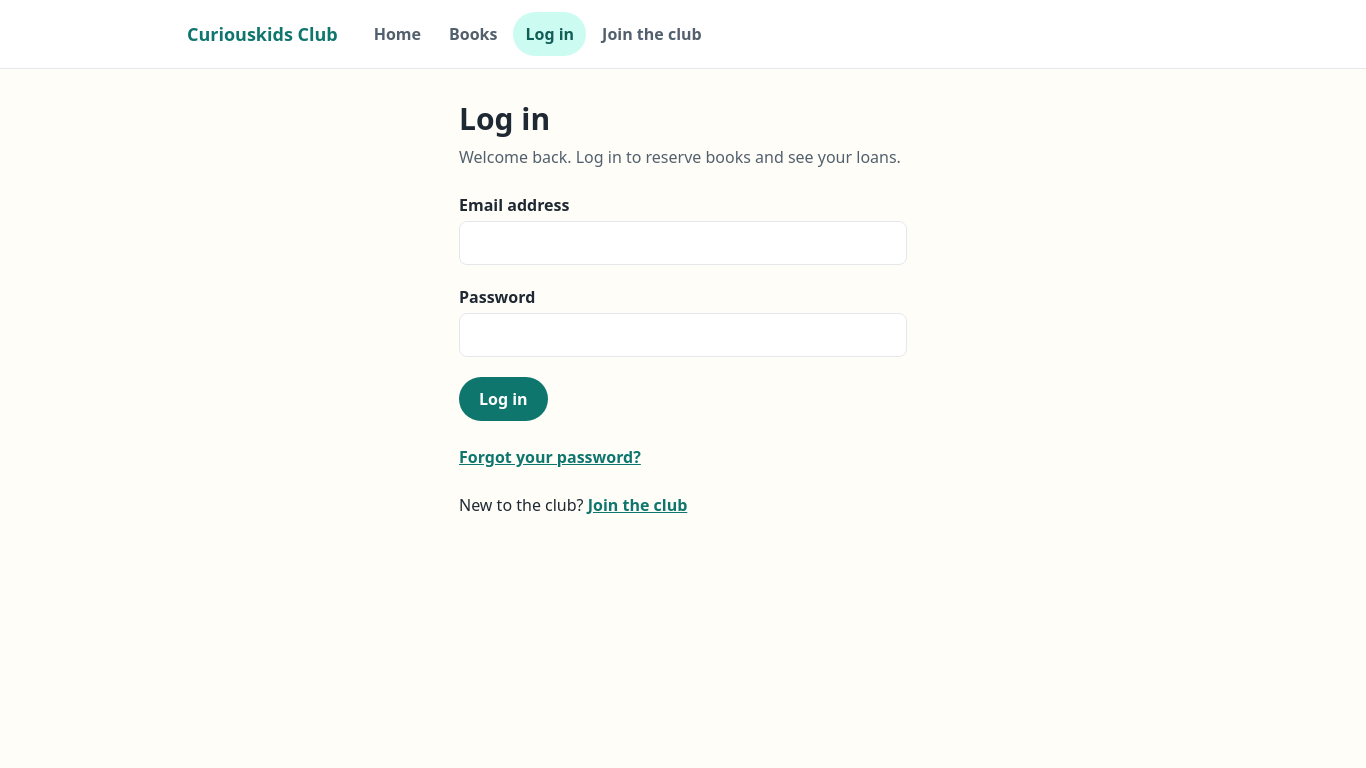
Scenario: Login page › FR-ID-03: says how long to wait when attempts are blocked
In the field labelled "Email address": point(683, 243) [459,221,907,265], type "sam@example.com"
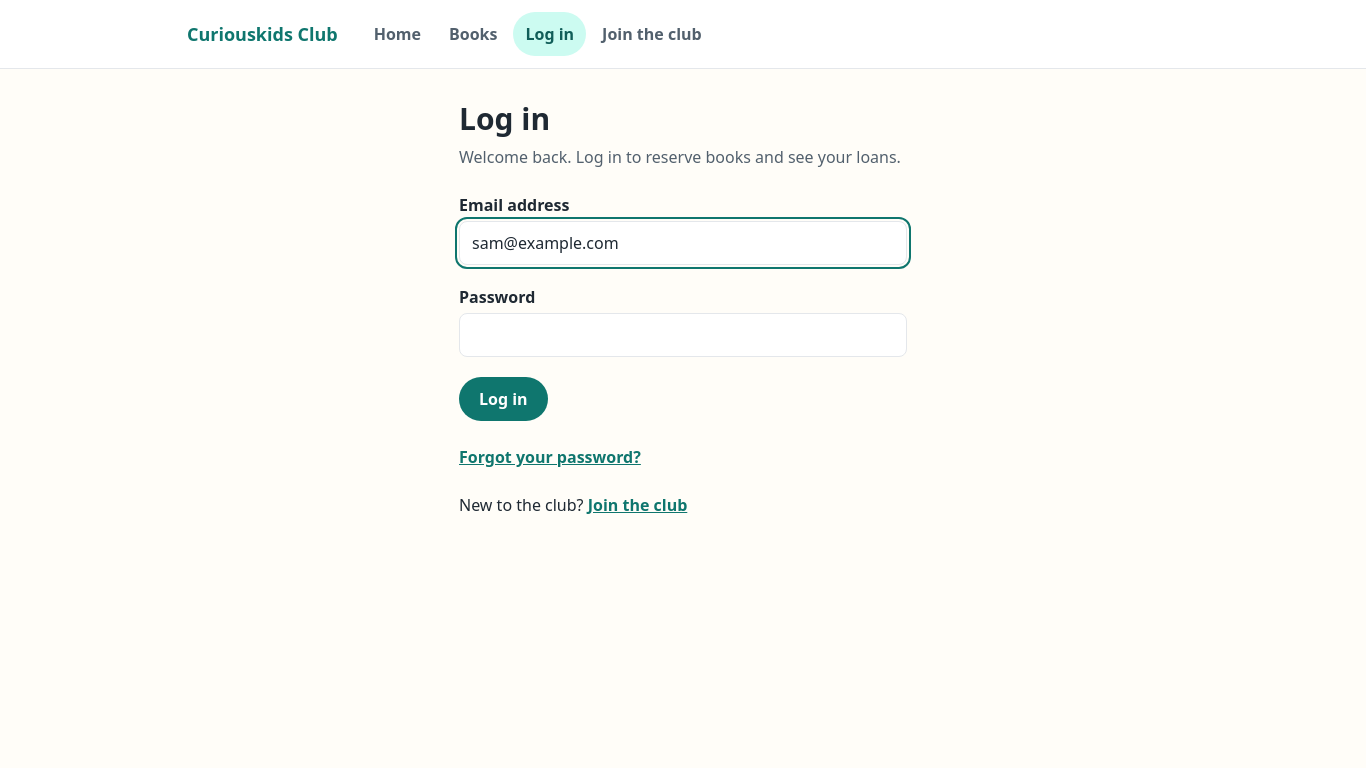
In the password field labelled "Password": point(683, 335) [459,313,907,357], type "wrong password"
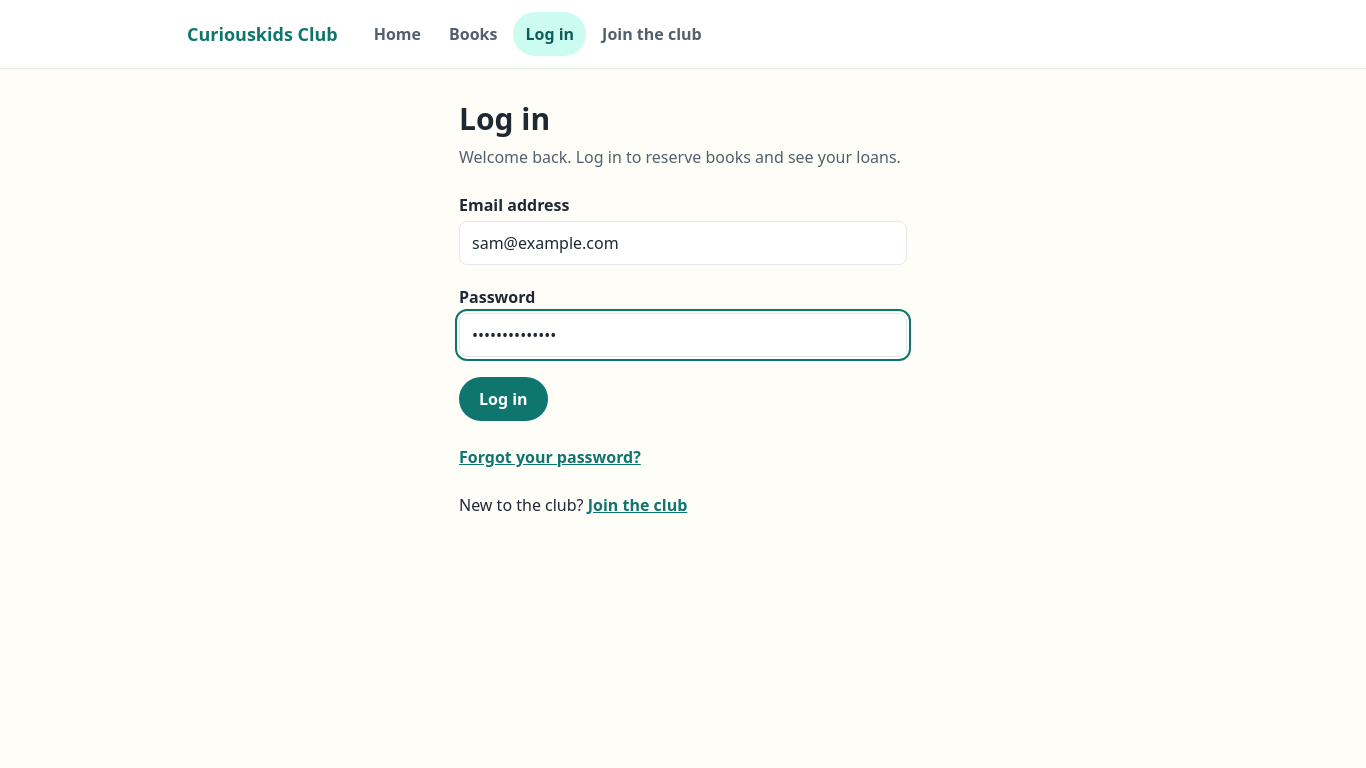
Click the button "Log in": point(503, 399) [459,377,548,421]
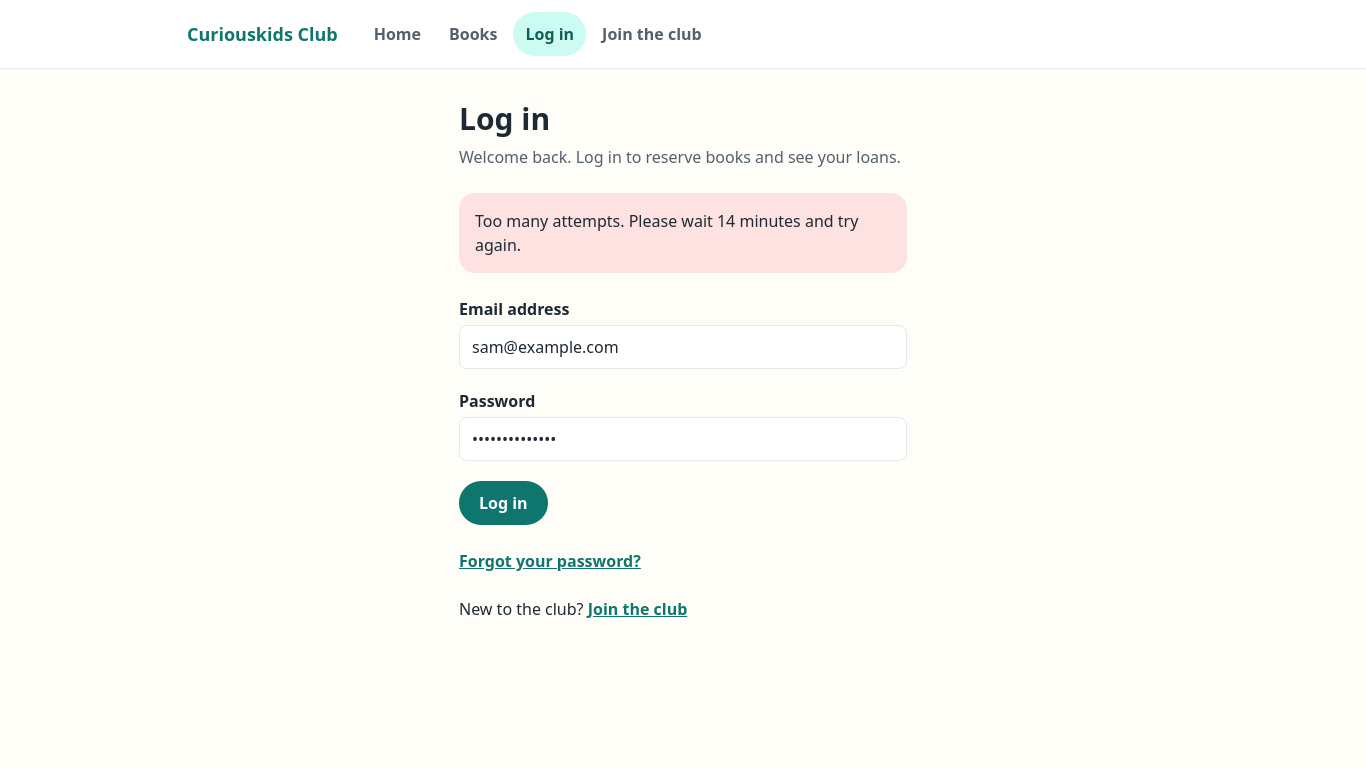
Now the message reads "Too many attempts. Please wait 14 minutes and try again.", box [475,210,858,256]
